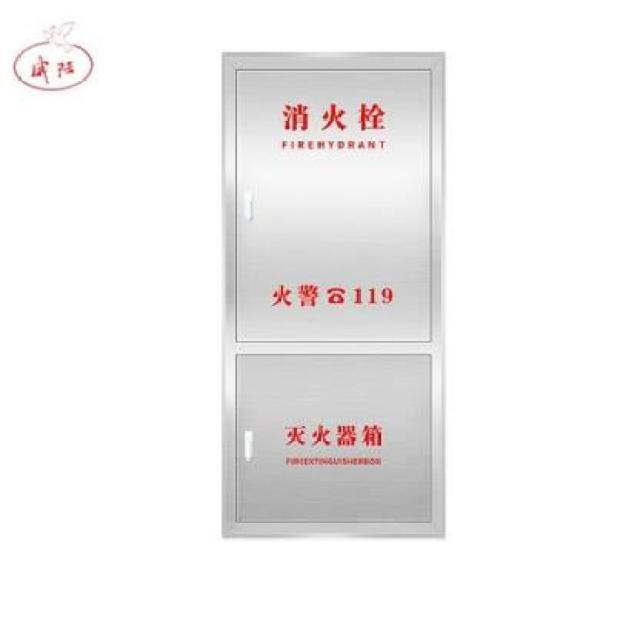firehydrant: (216, 44, 452, 544)
